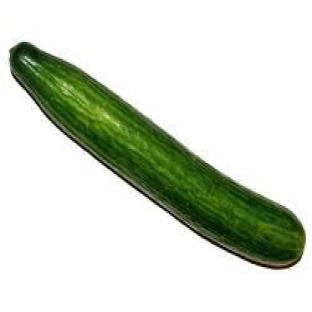Cucumber: (10, 44, 305, 266)
